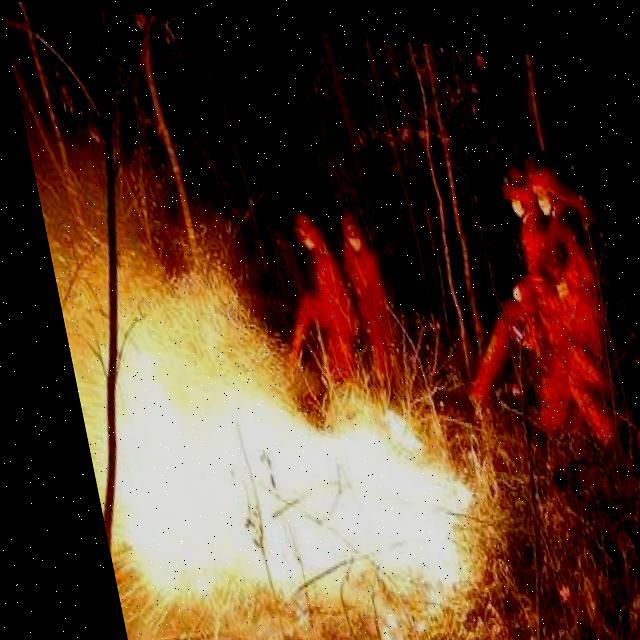Fire: (51, 277, 475, 639)
